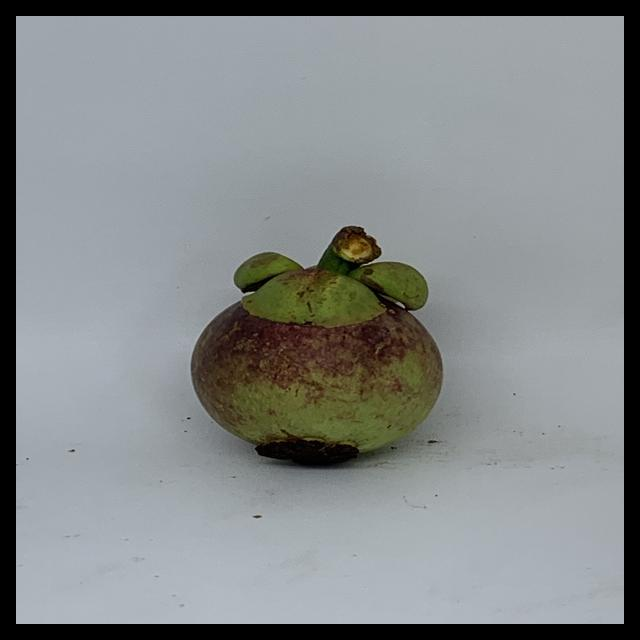mangosteen: (189, 214, 464, 475)
